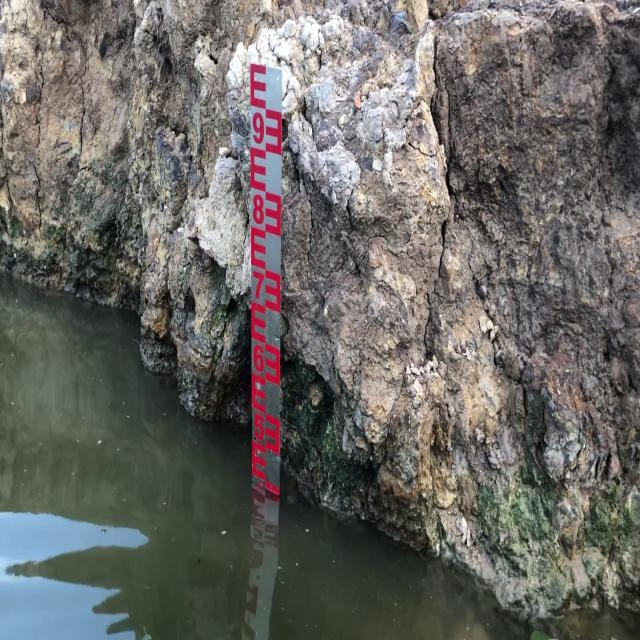ruler: (240, 55, 309, 465)
value: (249, 108, 267, 150), (249, 188, 266, 228), (250, 340, 266, 374), (251, 409, 266, 444), (251, 272, 265, 306)
